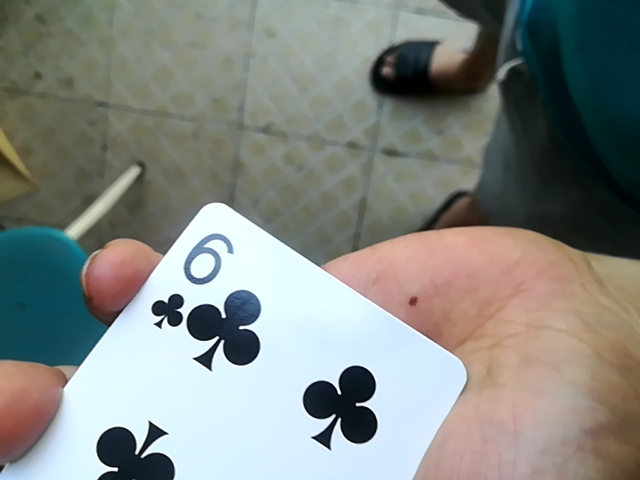mh 6: (0, 194, 483, 478)
